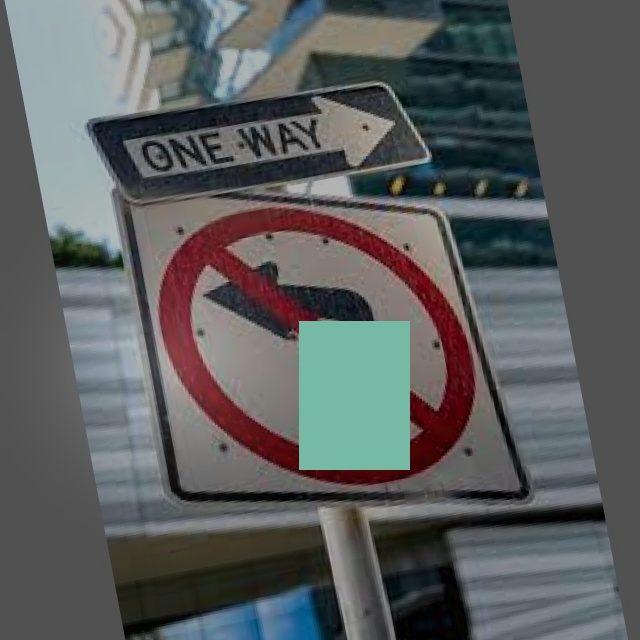Left_Turn_Prohibited: (135, 151, 502, 526)
